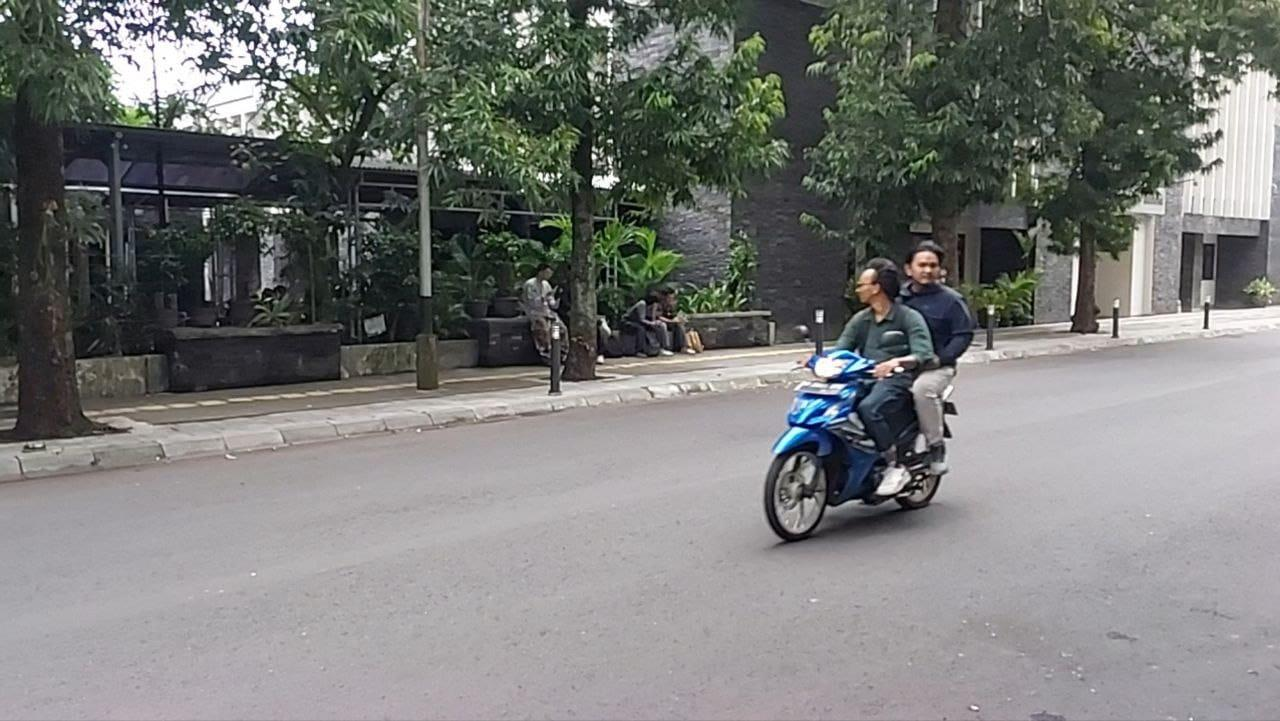nohelm: (854, 255, 902, 306), (903, 240, 947, 287)
riding: (762, 239, 977, 543)
